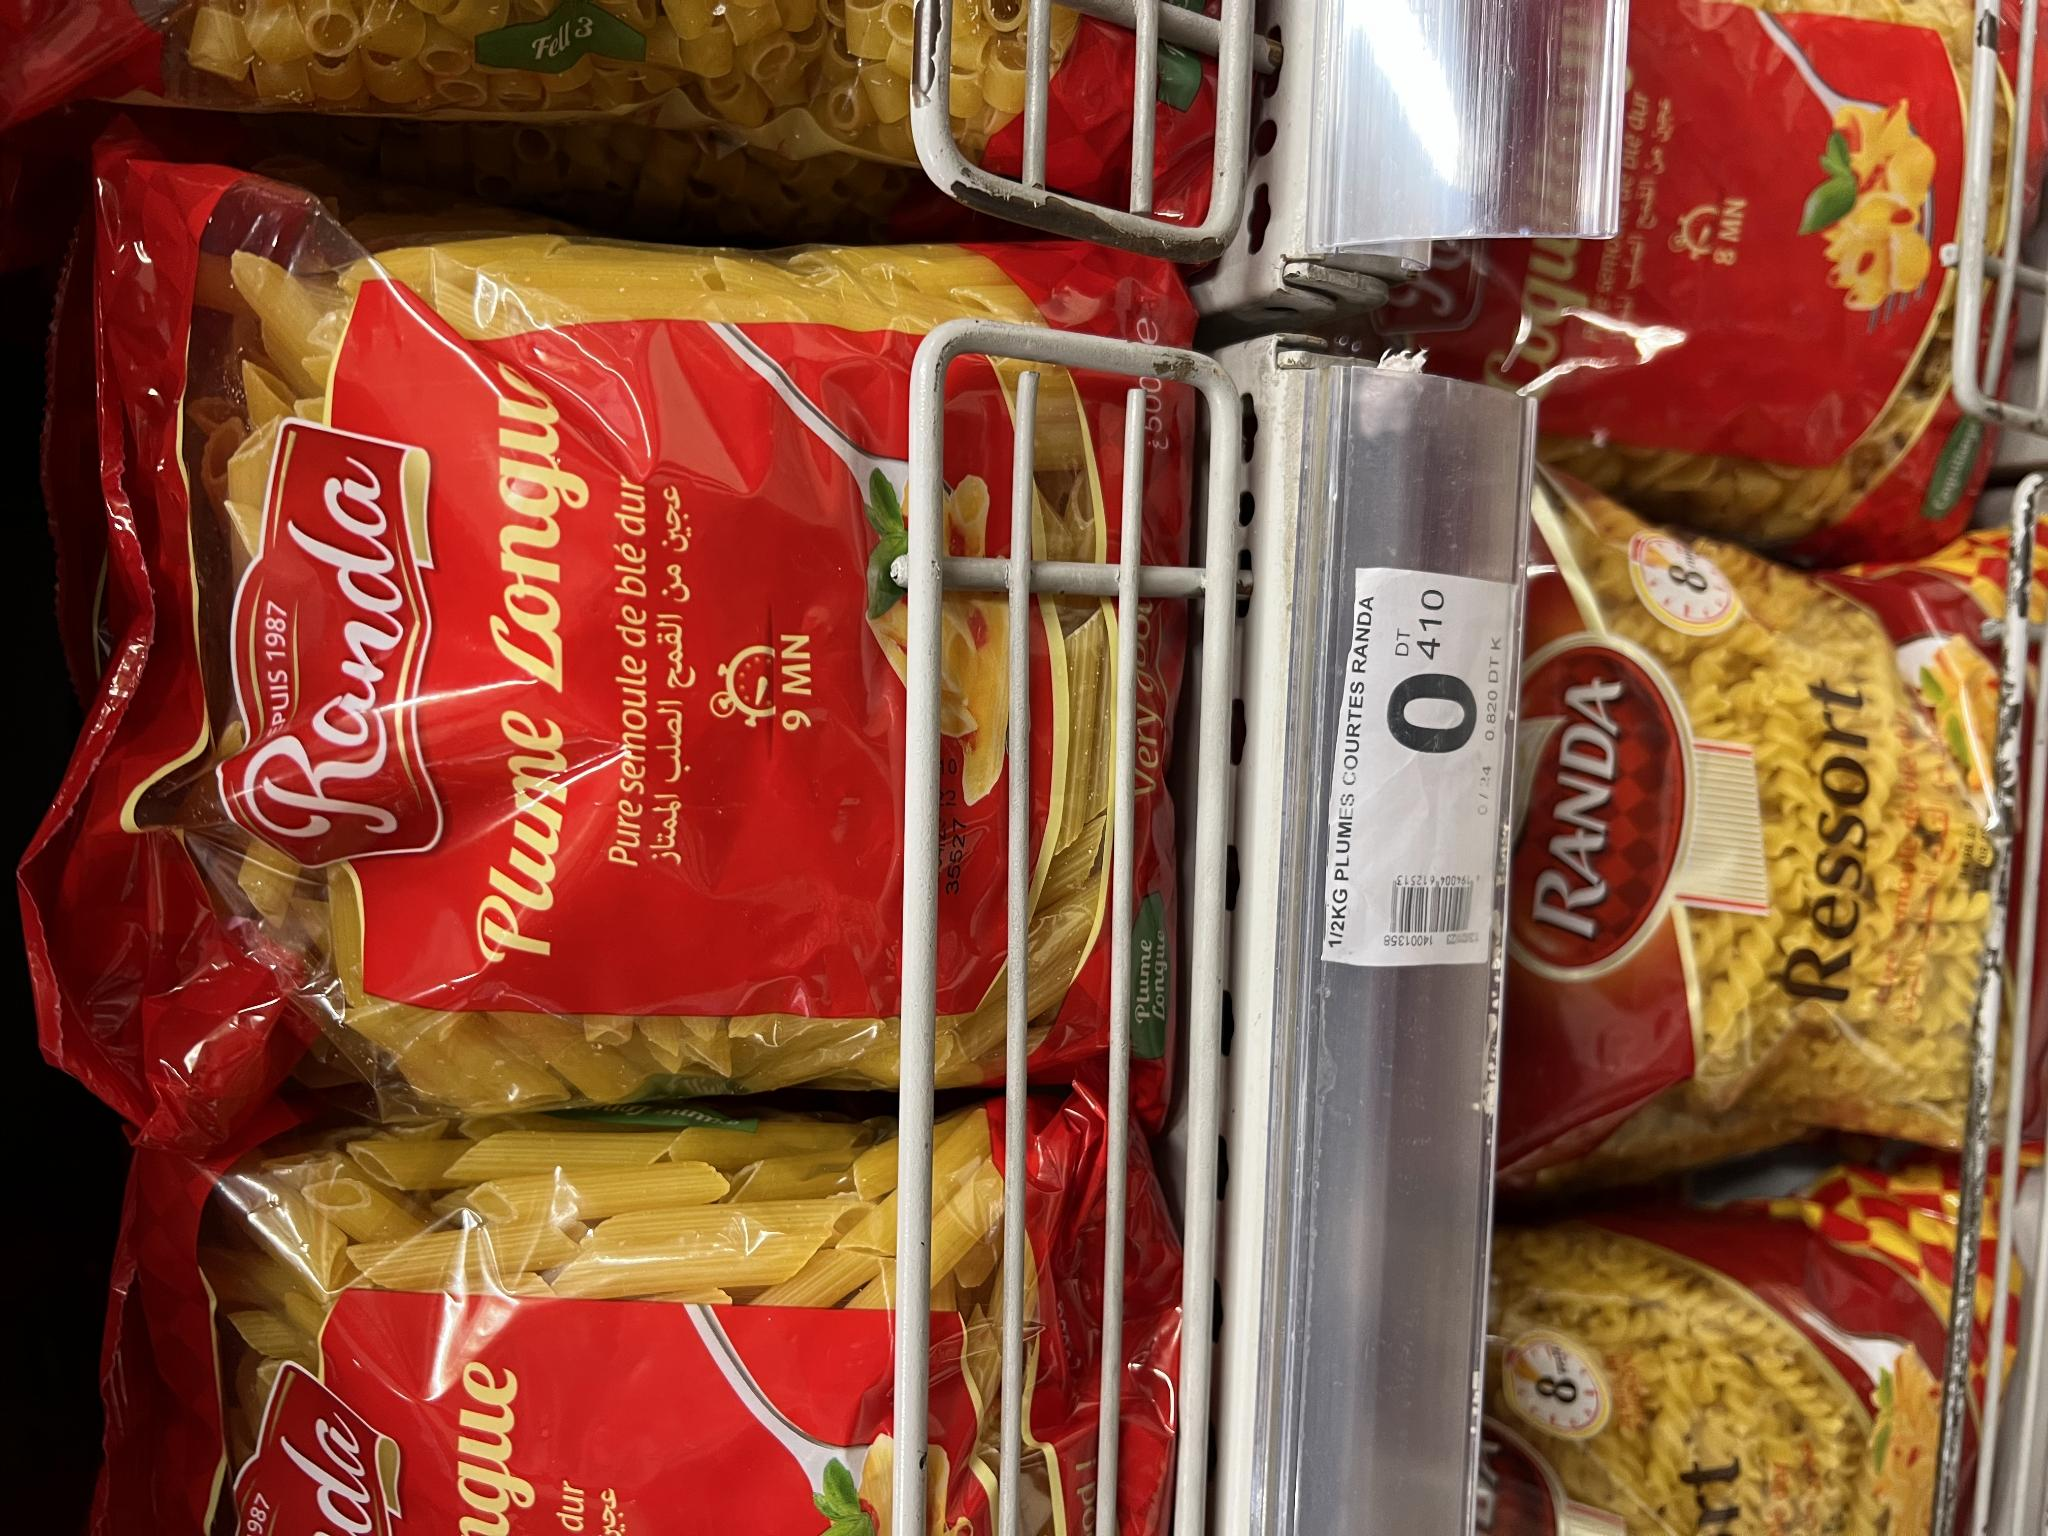plume: (132, 160, 1155, 1117)
